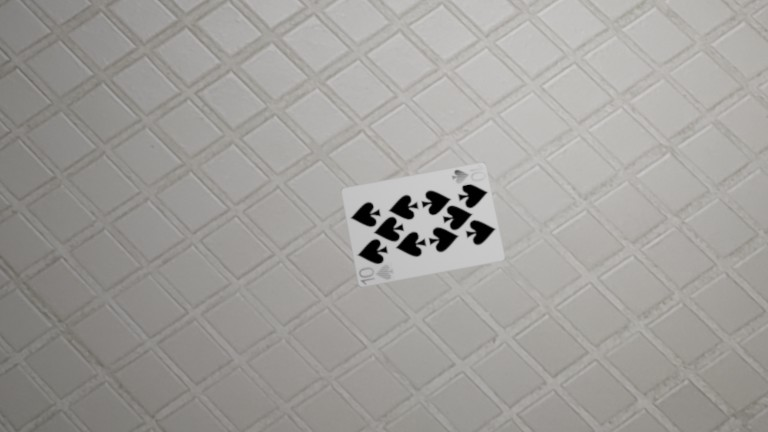10_of_spades: (143, 104, 158, 114), (180, 65, 195, 75)
